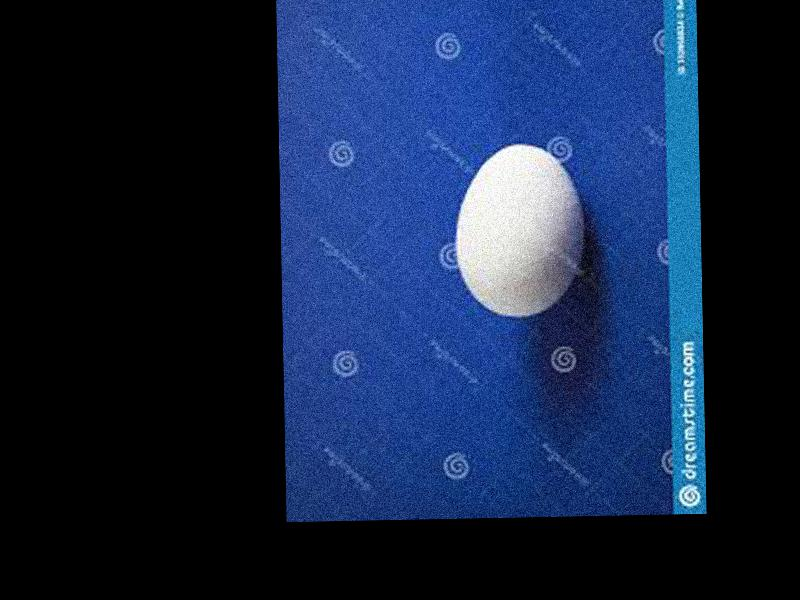Eggs: (455, 142, 586, 318)
